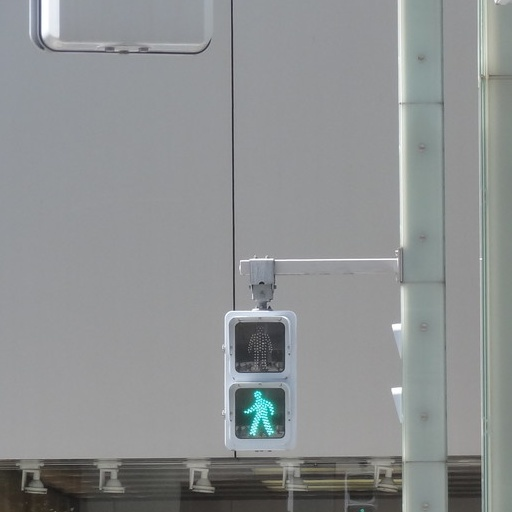Pedestrian_Signal_Blue: (225, 304, 296, 453)
